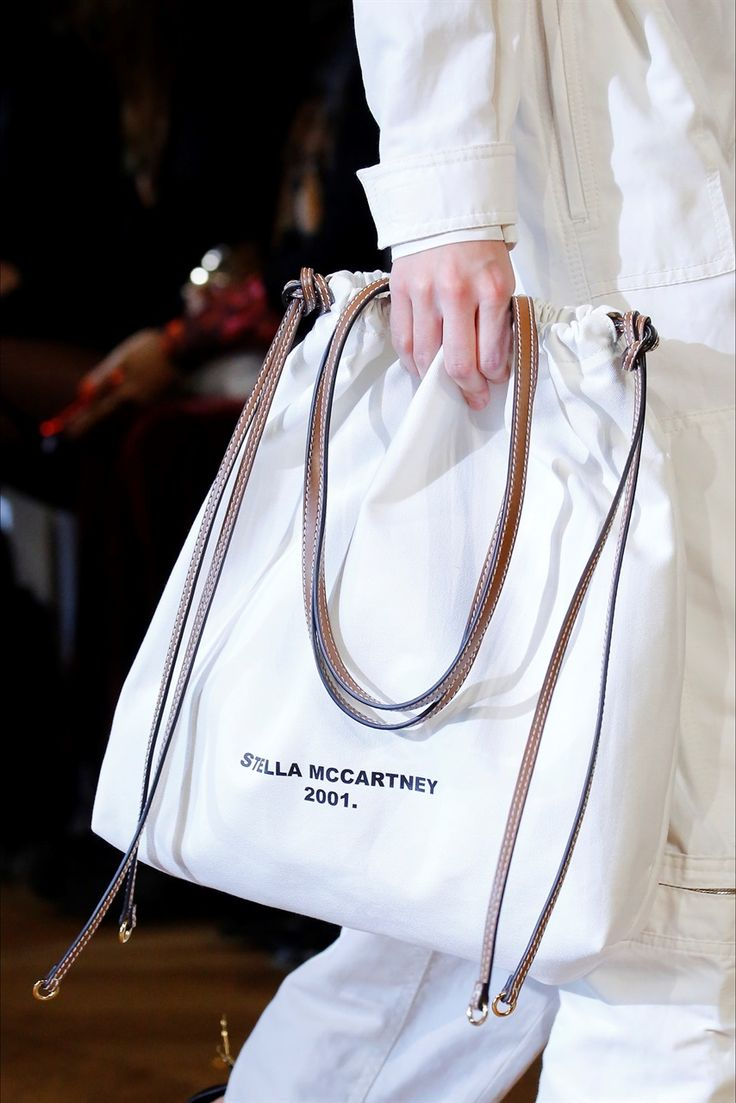nylon: (91, 1, 736, 1103)
